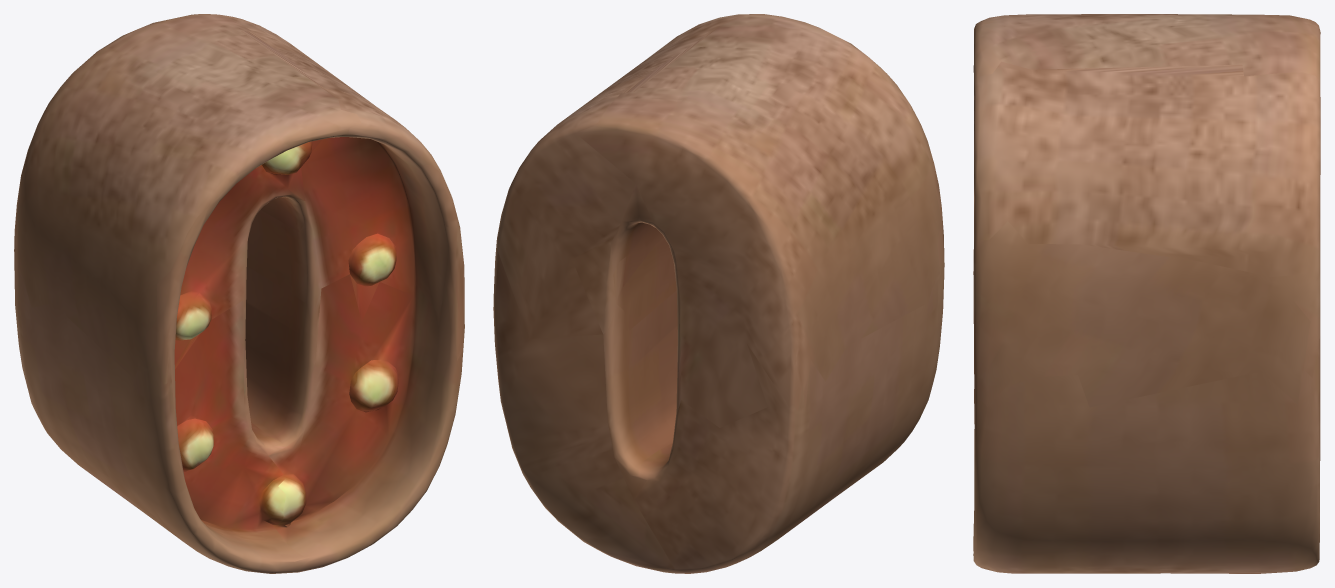
File: letter_o_idle.glb
3 renders of one model, left to right at view 1: azimuth 30°, elevation 25°; view 2: azimuth 150°, elevation 25°; view 3: azimuth 270°, elevation 25°, orthographic. The views are drawn at different scales.
Parts seen in each view (by area): view 1: tmp_letters_partial_l_s_02; view 2: tmp_letters_partial_l_s_02; view 3: tmp_letters_partial_l_s_02.
Boxes of the visible parts, x1,y1,x2,y2 form: tmp_letters_partial_l_s_02: (14,14,464,573); tmp_letters_partial_l_s_02: (493,14,944,573); tmp_letters_partial_l_s_02: (973,14,1320,573).
Bounding box in the file's own units: 0.7259 × 0.9986 × 0.6089.
1 material, 1 textured.
